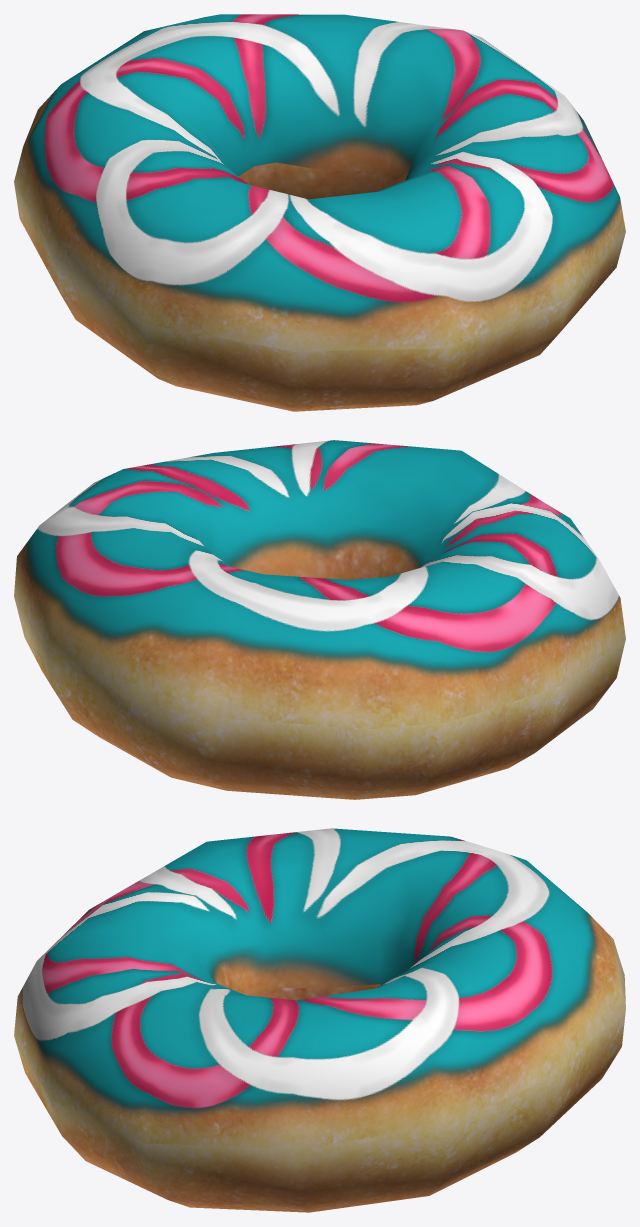
The model's file is Donut7LP.obj.
3 renders of one model, top to bottom at view 1: azimuth 30°, elevation 25°; view 2: azimuth 150°, elevation 25°; view 3: azimuth 270°, elevation 25°, orthographic.
Parts seen in each view (by area): view 1: donut072; view 2: donut072; view 3: donut072.
Boxes of the visible parts, box(x1,y1,x2,y2) form: donut072: box(14, 14, 625, 411); donut072: box(14, 440, 625, 799); donut072: box(14, 828, 625, 1212).
Size of the model in its own units: 9.42 by 3.94 by 9.78.
1 material, 1 textured.
